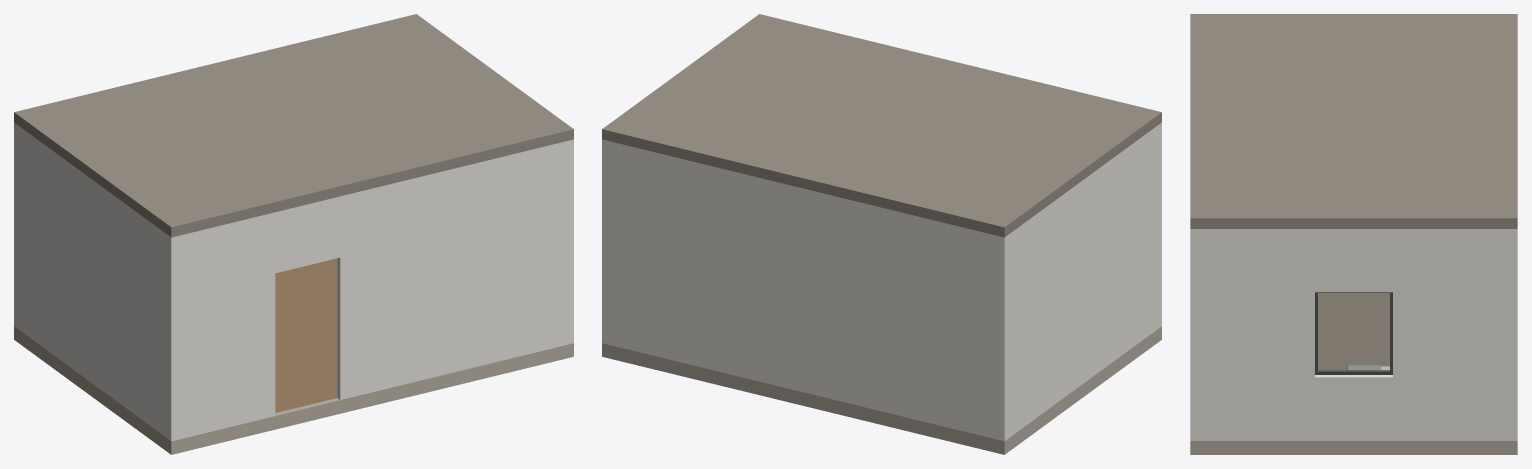
The model's file is plan.glb.
3 renders of one model, left to right at view 1: azimuth 30°, elevation 25°; view 2: azimuth 150°, elevation 25°; view 3: azimuth 270°, elevation 25°, orthographic. The views are drawn at different scales.
Visible parts, largest first — view 1: wall:w, roof:roof, door:door_1, slab:slab; view 2: wall:w, roof:roof, slab:slab; view 3: roof:roof, wall:w, window:window_1:glass, door:door_2, slab:slab, window:window_1:frame.
Boxes of the visible parts, x1,y1,x2,y2 form: wall:w: (14, 122, 573, 441); roof:roof: (14, 14, 573, 237); door:door_1: (275, 258, 337, 412); slab:slab: (14, 326, 573, 454); wall:w: (602, 122, 1161, 441); roof:roof: (602, 14, 1161, 237); slab:slab: (602, 326, 1161, 454); roof:roof: (1190, 14, 1517, 228); wall:w: (1190, 229, 1517, 440); window:window_1:glass: (1318, 293, 1389, 370); door:door_2: (1318, 293, 1389, 369); slab:slab: (1190, 441, 1517, 454); window:window_1:frame: (1315, 292, 1392, 374).
Size of the model in its own units: 6.2 by 3.35 by 4.2.
